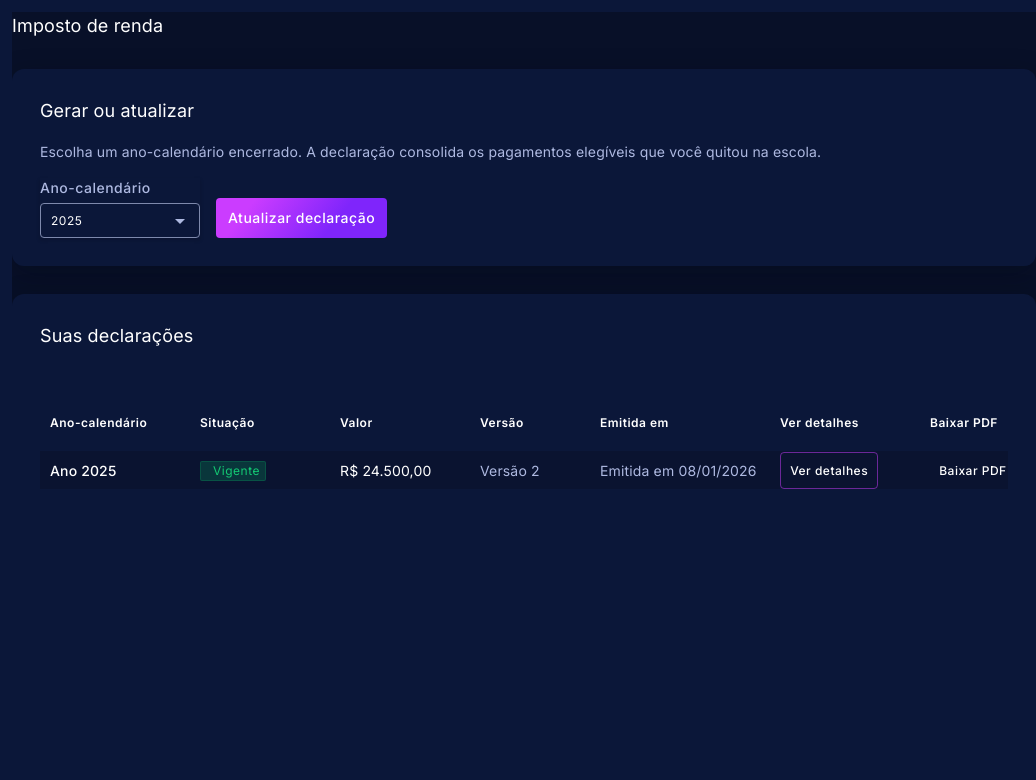
Test: MyTaxDeclarations › generates a declaration for a selected year
Check: the heading "Imposto de renda" is shown, box [12, 12, 163, 41]
Click the dropdown named "ano-calendário" at x=67, y=221, box [51, 213, 82, 228]
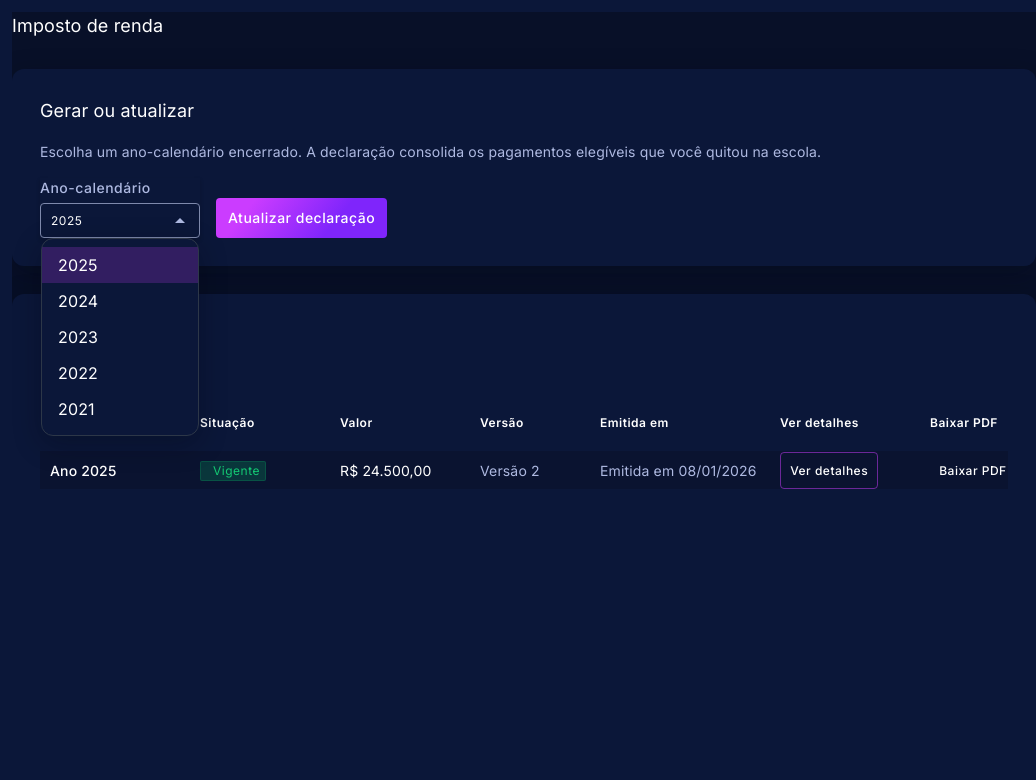
Click the option "2024" at x=78, y=301, box [58, 291, 98, 311]
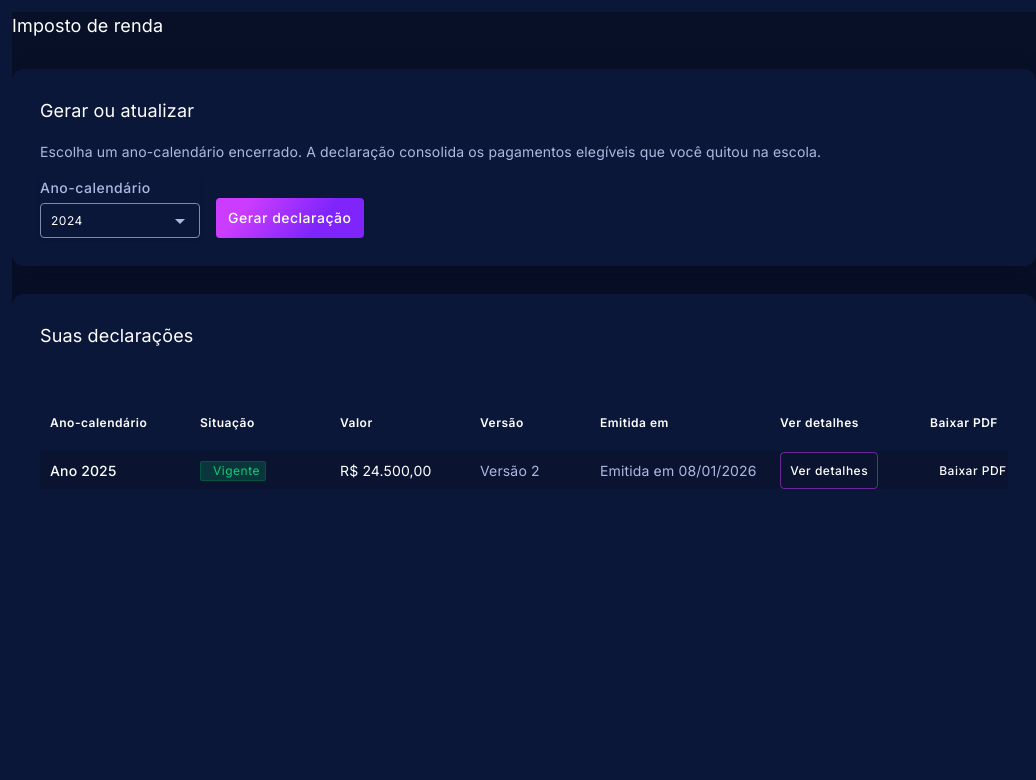
Click the button "Gerar declaração" at x=290, y=218, box [216, 198, 364, 238]
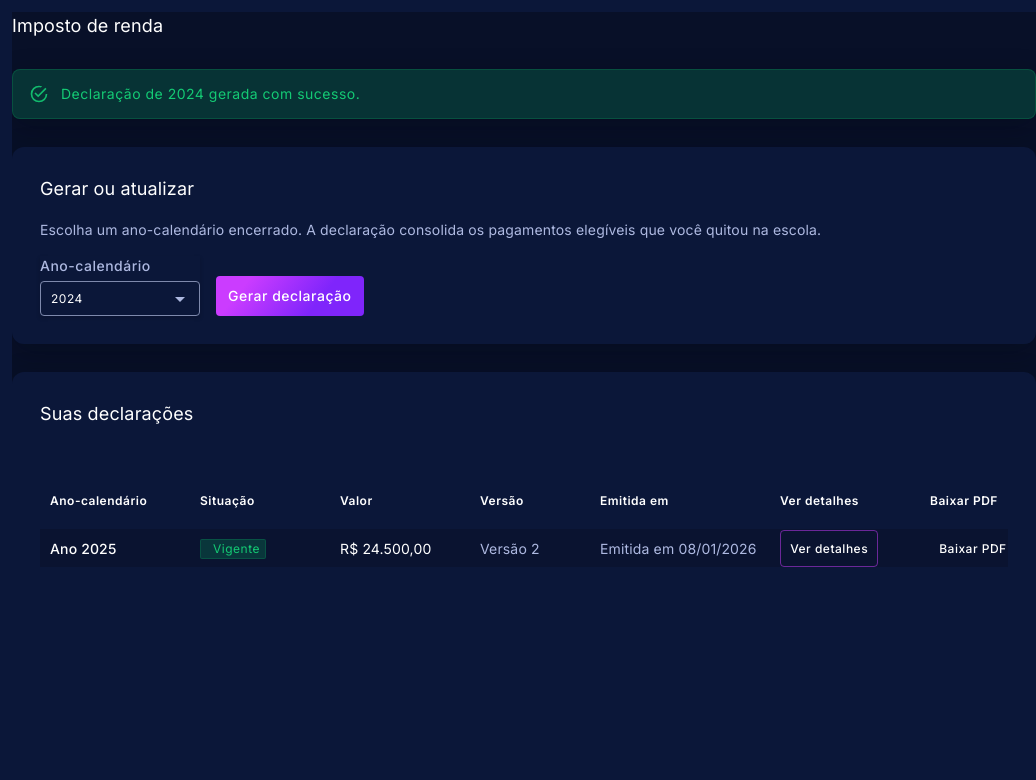
Check: the text "Declaração de 2024 gerada com sucesso." is shown, box [61, 85, 360, 102]
